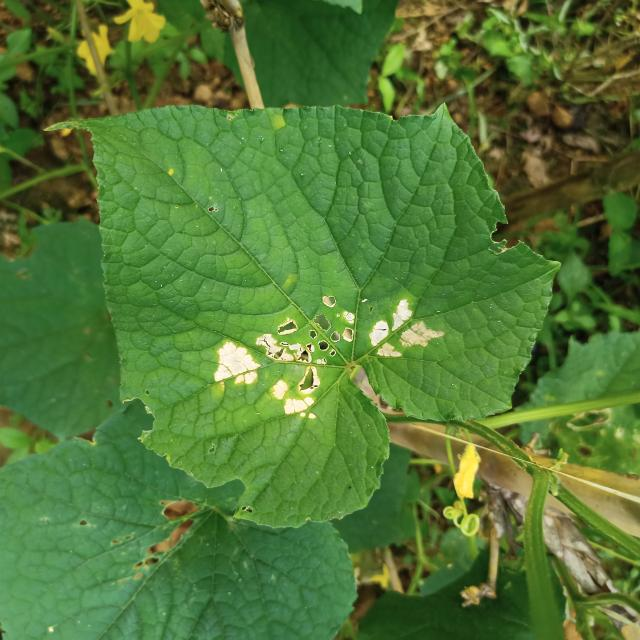disease_cucumber: (206, 291, 359, 425), (364, 298, 445, 374)
